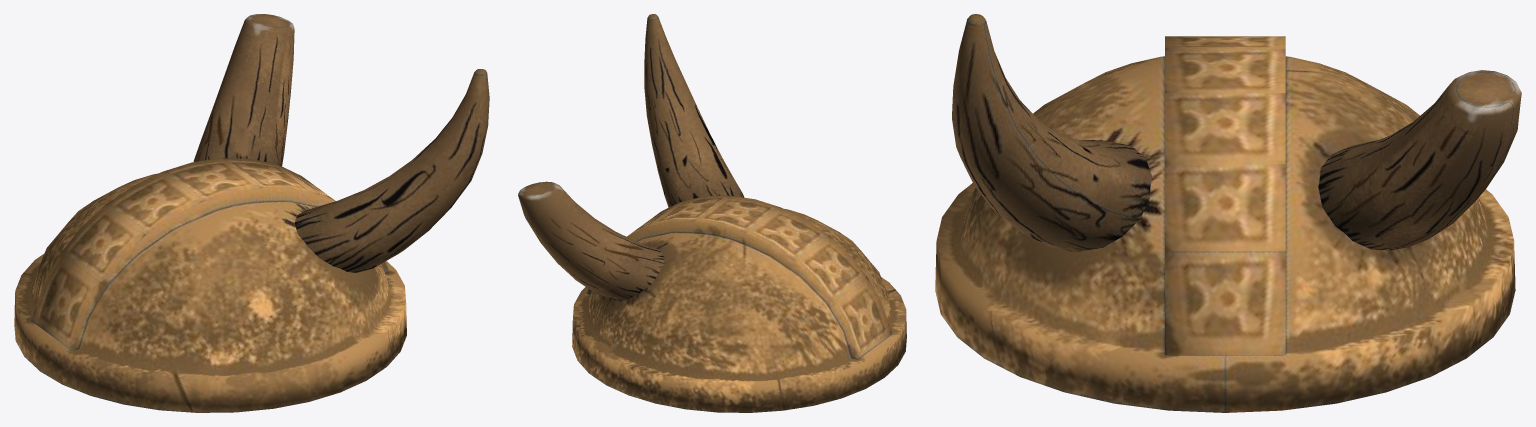
File: outfit_viking_helmet.glb
The picture shows the model from 3 angles, left to right: view 1: azimuth 30°, elevation 25°; view 2: azimuth 150°, elevation 25°; view 3: azimuth 270°, elevation 25°; orthographic projection. The views are drawn at different scales.
Parts seen in each view (by area): view 1: outfit_viking_helmet; view 2: outfit_viking_helmet; view 3: outfit_viking_helmet.
Boxes of the visible parts, bbox=[...] form: outfit_viking_helmet: bbox=[14, 14, 489, 412]; outfit_viking_helmet: bbox=[518, 14, 906, 412]; outfit_viking_helmet: bbox=[935, 14, 1521, 412].
Bounding box in the file's own units: 0.4117 × 0.3 × 0.3901.
2 materials, 2 textured.
